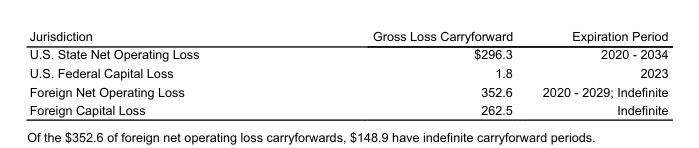table: (28, 28, 667, 116)
table column: (28, 28, 285, 116), (285, 28, 527, 116), (527, 28, 667, 116)
table column header: (28, 28, 667, 44)
table row: (28, 44, 667, 63), (28, 81, 667, 100), (28, 63, 667, 81), (28, 28, 667, 44), (28, 100, 667, 116)
